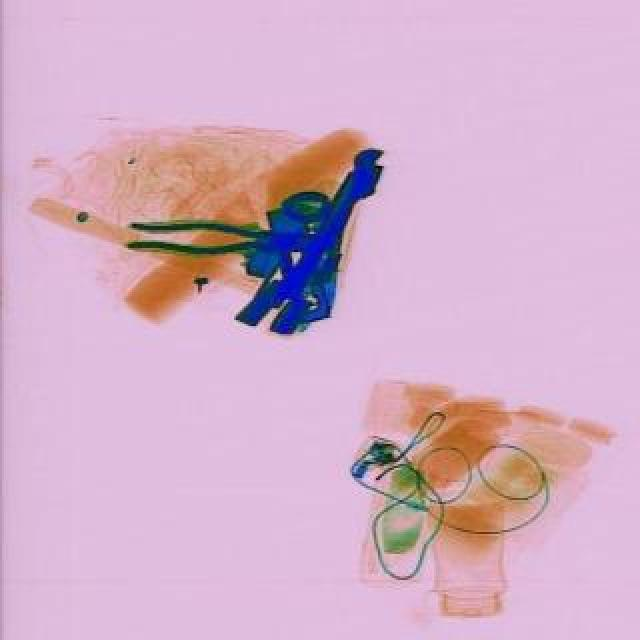scissors: (260, 142, 396, 314)
